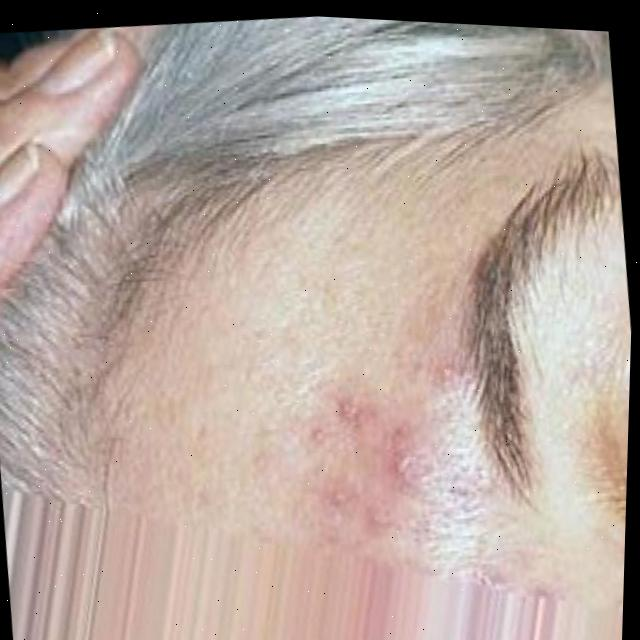Rosacea: (293, 356, 533, 614)
